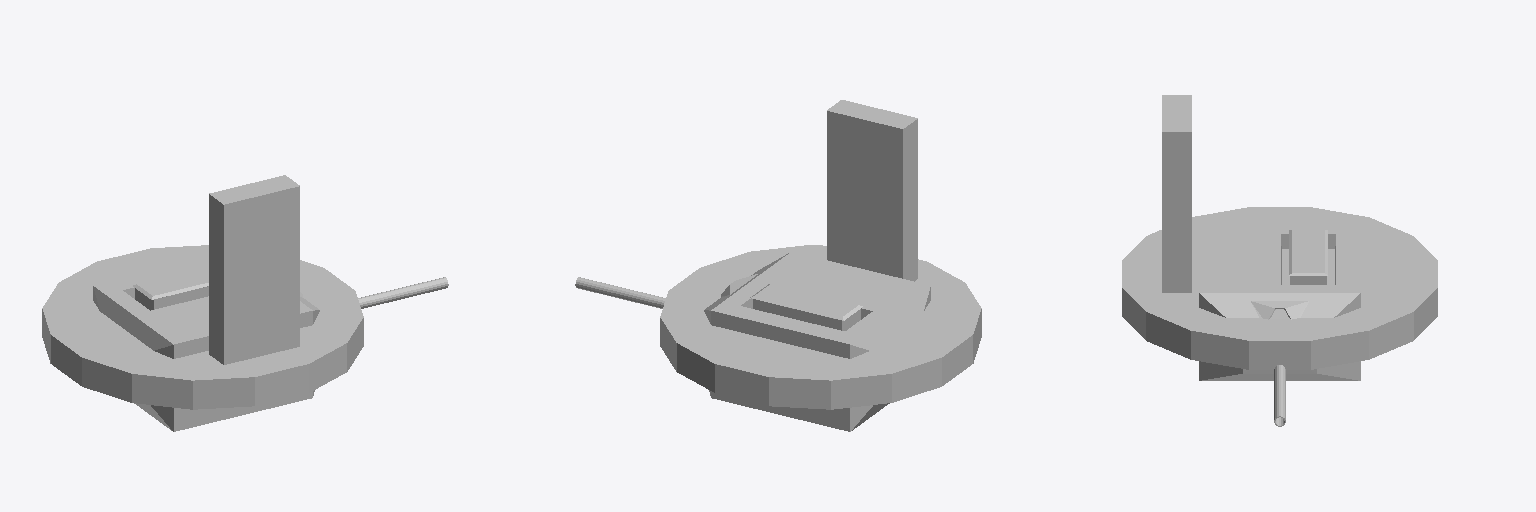
Rendered from AMS.obj.
The picture shows the model from 3 angles: view 1: azimuth 30°, elevation 25°; view 2: azimuth 150°, elevation 25°; view 3: azimuth 270°, elevation 25°; orthographic projection.
Visible parts, largest first — view 1: TurretBase_Cylinder, Gun_Cube.002; view 2: TurretBase_Cylinder, Gun_Cube.002; view 3: TurretBase_Cylinder, Gun_Cube.002.
Boxes of the visible parts, x1,y1,x2,y2 form: TurretBase_Cylinder: [42, 175, 363, 409]; Gun_Cube.002: [93, 257, 448, 431]; TurretBase_Cylinder: [660, 100, 981, 409]; Gun_Cube.002: [575, 252, 930, 431]; TurretBase_Cylinder: [1122, 95, 1437, 369]; Gun_Cube.002: [1199, 225, 1360, 426].
Bounding box in the file's own units: 1.36 × 0.8 × 0.9808.